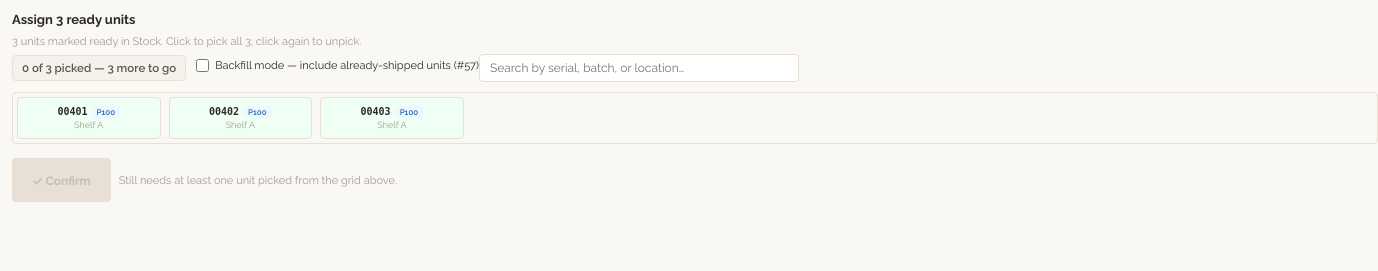
Scenario: StepAssign — picking the machines an order is for › unpicks a unit that is clicked again
Click the text "00401". click: x=89, y=112
box: [57,106,120,118]
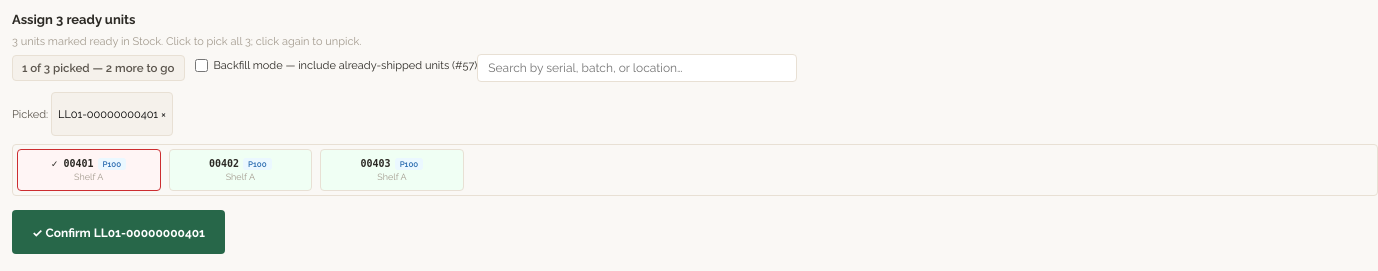
Expected: the text "1 of 3 picked — 2 more to go" is shown, [12,55,184,81]
Click the text "✓ 00401". click: x=89, y=164
box: [51,158,126,170]
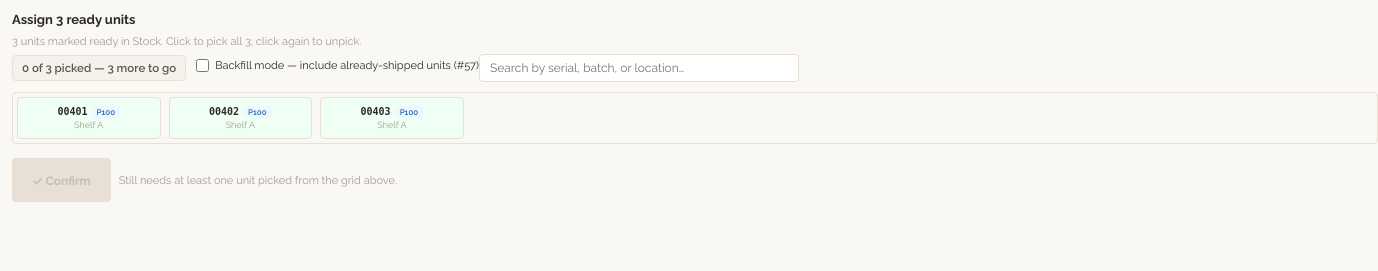
Expected: the text "0 of 3 picked — 3 more to go" is shown, [12,55,186,81]
